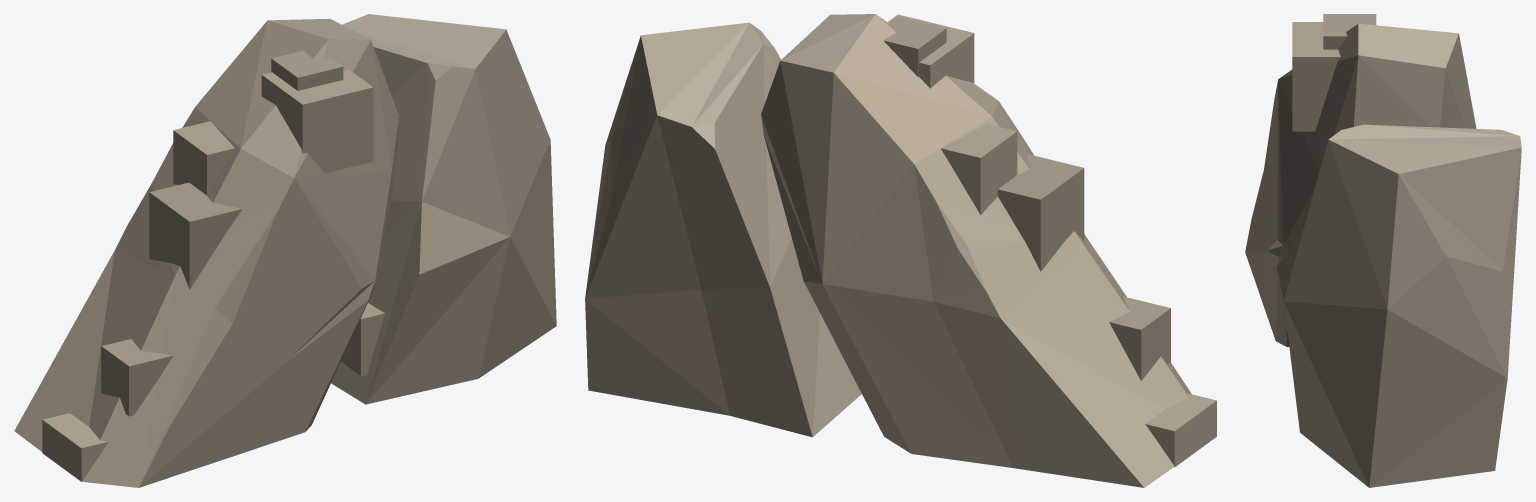
Rendered from rock_sand_01c.glb.
3 views of the same model, side by side, from view 1: azimuth 30°, elevation 25°; view 2: azimuth 150°, elevation 25°; view 3: azimuth 270°, elevation 25° (orthographic). The views are drawn at different scales.
Visible parts, largest first — view 1: mapa.roca.env_rock_sand_01c; view 2: mapa.roca.env_rock_sand_01c; view 3: mapa.roca.env_rock_sand_01c.
Boxes of the visible parts, <box> form: mapa.roca.env_rock_sand_01c: <box>14,14,556,487</box>; mapa.roca.env_rock_sand_01c: <box>585,14,1216,487</box>; mapa.roca.env_rock_sand_01c: <box>1245,14,1521,487</box>.
Size of the model in its own units: 15.43 by 9.92 by 7.09.
